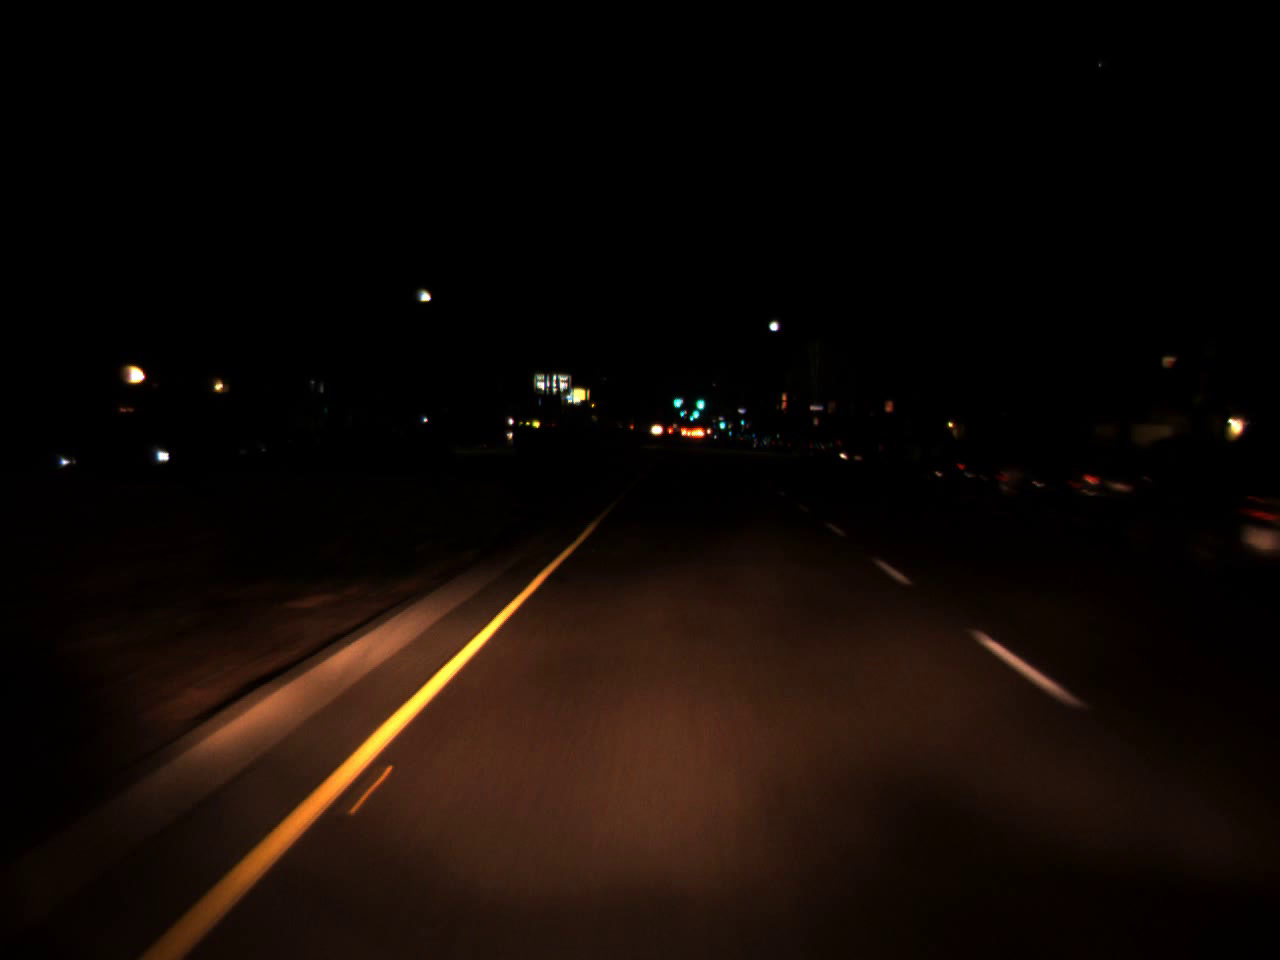go: (695, 389, 705, 413), (671, 389, 681, 410), (691, 403, 700, 418), (718, 415, 725, 430), (738, 412, 745, 427), (678, 406, 685, 418)
